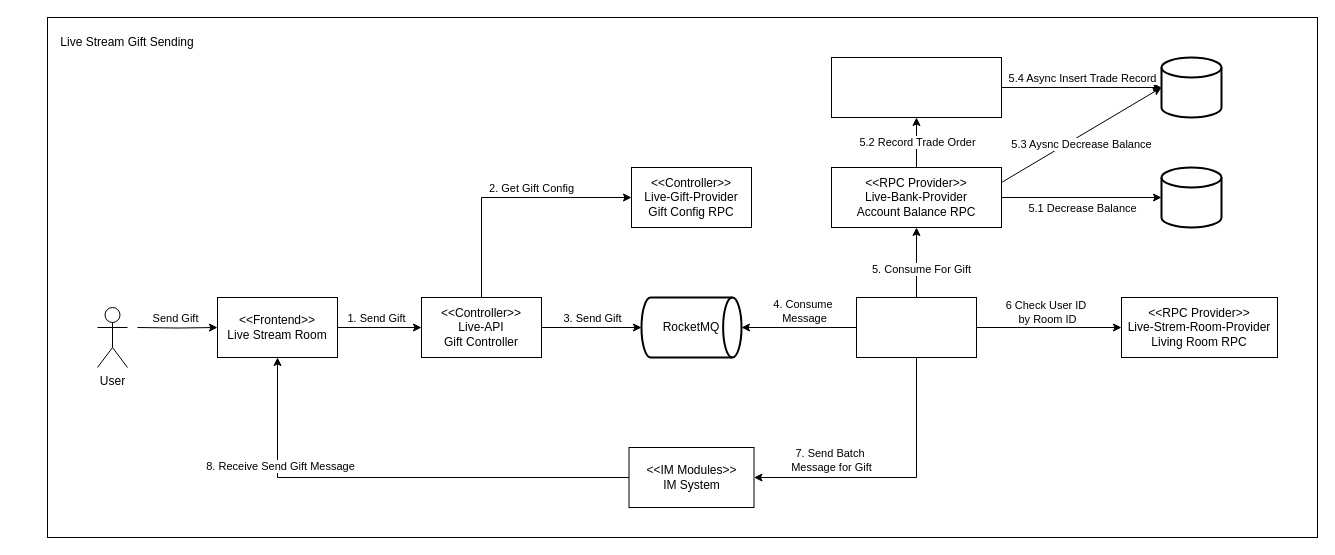
Image size: 1335x555. Some labels were removed from this diagram. Here are the shapes that lost their labels. From the top down, the centre of each, then its label:
At point (916, 87): "<<RPC Provider>> Live-Bank-Provider Transaction Turnover RPC".
At point (1191, 87): "MySQL".
At point (1191, 197): "Redis".
At point (916, 327): "<<MQ Consumer>> Live-Gift-Provider Send Gift Consumer".
